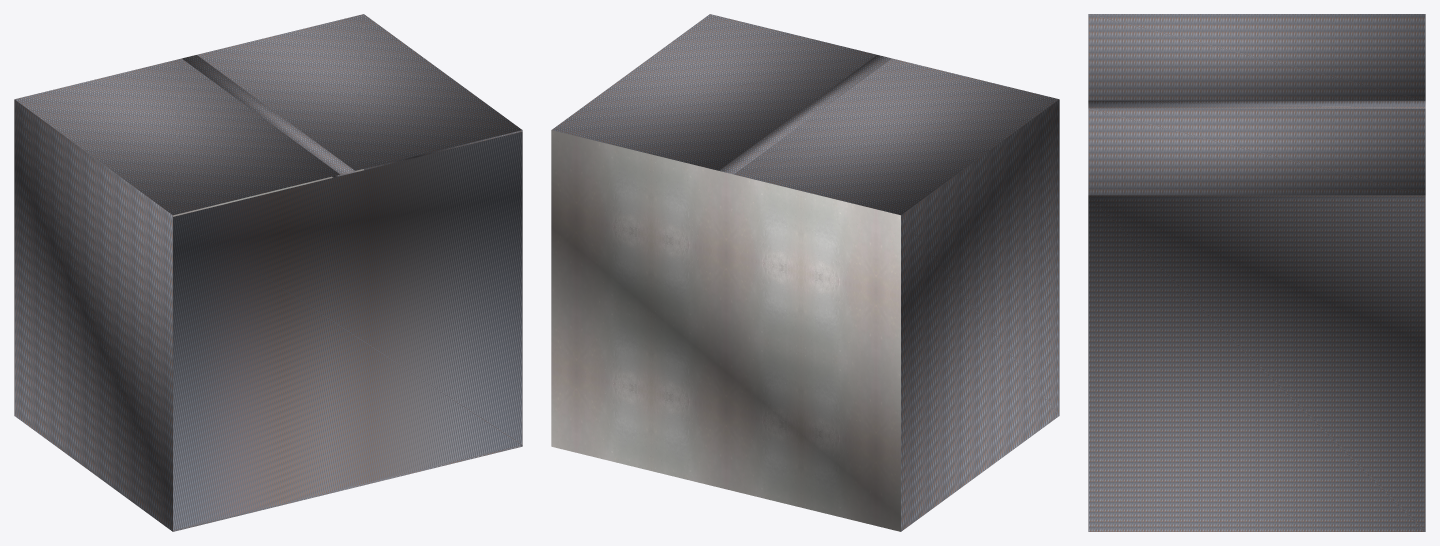
The model's file is sala2.obj.
3 renders of one model, left to right at view 1: azimuth 30°, elevation 25°; view 2: azimuth 150°, elevation 25°; view 3: azimuth 270°, elevation 25°, orthographic. The views are drawn at different scales.
Size of the model in its own units: 7000 by 6060 by 5502.
